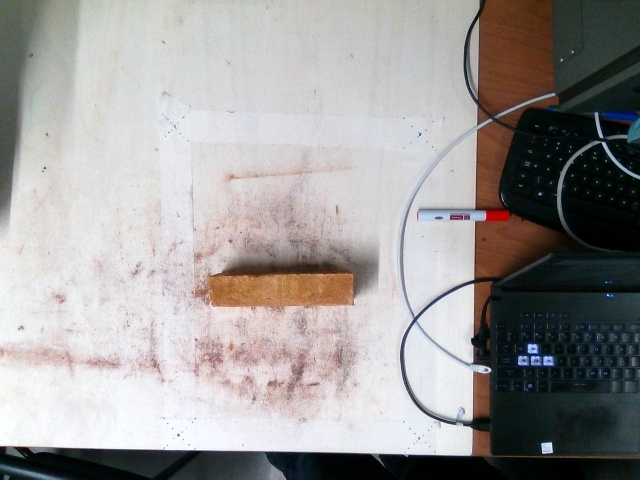brick-side: (209, 273, 353, 307)
